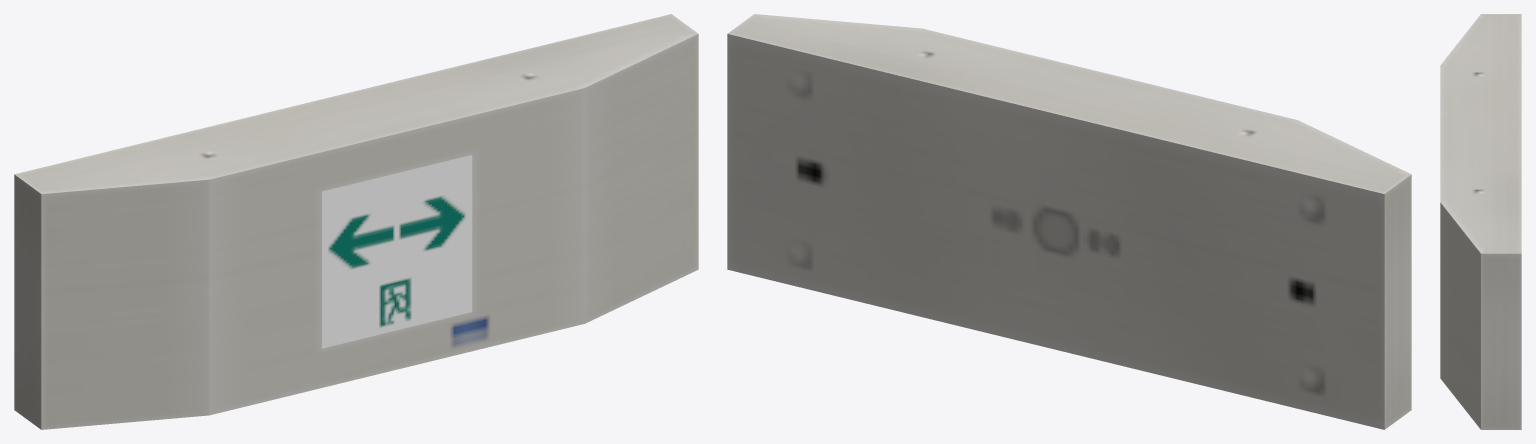
The model's file is SHW_Exitlight_wall_01_06.fbx.
3 renders of one model, left to right at view 1: azimuth 30°, elevation 25°; view 2: azimuth 150°, elevation 25°; view 3: azimuth 270°, elevation 25°, orthographic. The views are drawn at different scales.
Parts seen in each view (by area): view 1: shw_exitlight_wall_01_06; view 2: shw_exitlight_wall_01_06; view 3: shw_exitlight_wall_01_06.
Part boxes in pixels (x1,y1,x2,y2): shw_exitlight_wall_01_06: (14,14,698,429); shw_exitlight_wall_01_06: (727,14,1411,429); shw_exitlight_wall_01_06: (1440,14,1521,429).
Size of the model in its own units: 70 by 24 by 10.
